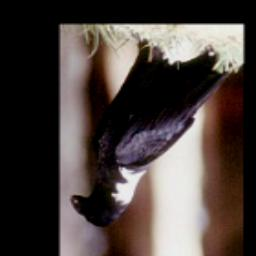Crow: (69, 34, 238, 235)
